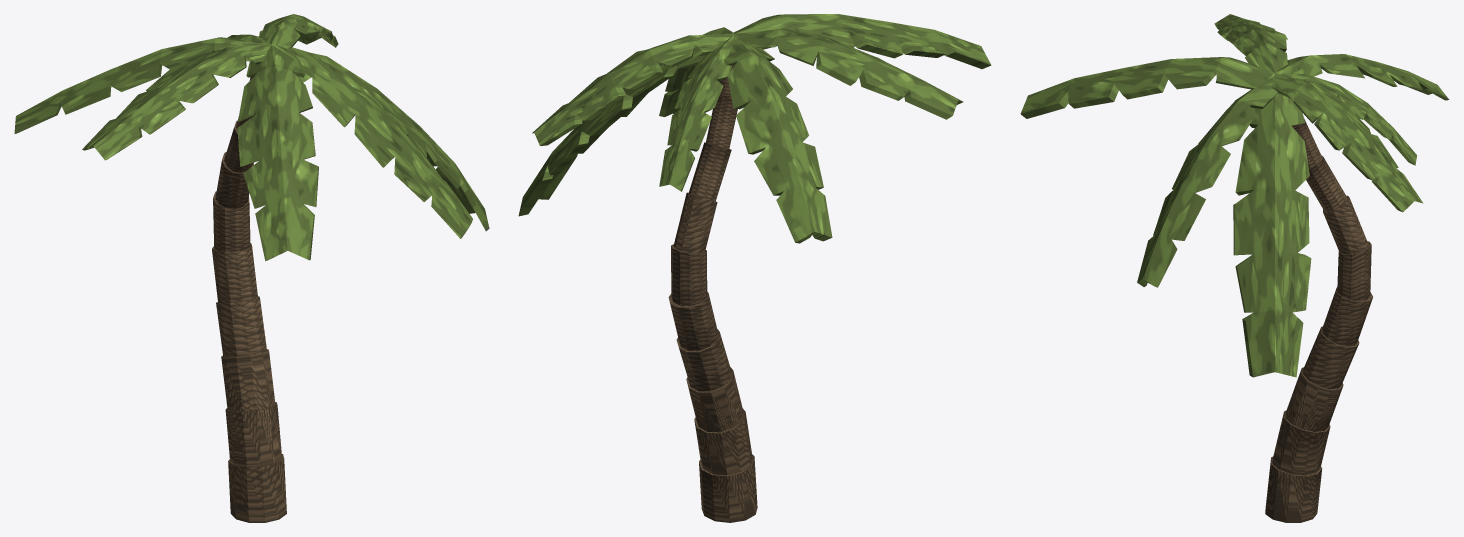
Rendered from Palm.fbx.
3 renders of one model, left to right at view 1: azimuth 30°, elevation 25°; view 2: azimuth 150°, elevation 25°; view 3: azimuth 270°, elevation 25°, orthographic. The views are drawn at different scales.
Visible parts, largest first — view 1: Cylinder.002; view 2: Cylinder.002; view 3: Cylinder.002.
Boxes of the visible parts, x1,y1,x2,y2 form: Cylinder.002: (14, 14, 489, 522); Cylinder.002: (518, 14, 991, 522); Cylinder.002: (1020, 14, 1449, 522).
Size of the model in its own units: 267 by 296 by 254.
